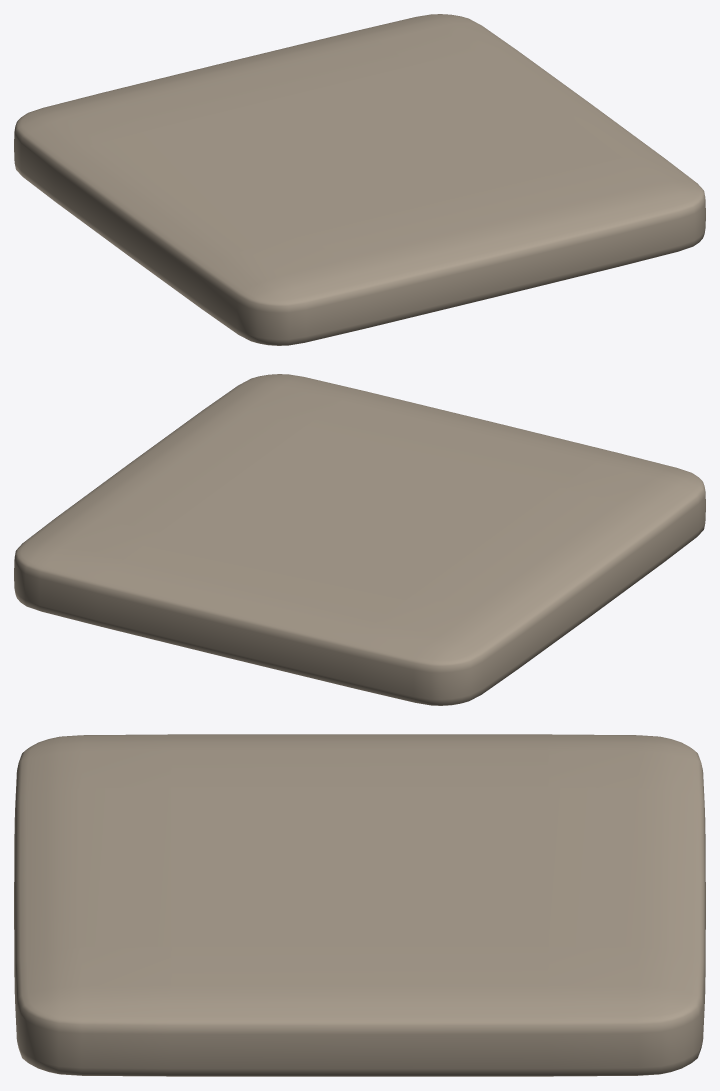
Rendered from CubeSoft.fbx.
3 views of the same model, one above another, from view 1: azimuth 30°, elevation 25°; view 2: azimuth 150°, elevation 25°; view 3: azimuth 270°, elevation 25° (orthographic). The views are drawn at different scales.
Visible parts, largest first — view 1: Cube_soft.001; view 2: Cube_soft.001; view 3: Cube_soft.001.
Boxes of the visible parts, bbox=[...] form: Cube_soft.001: bbox=[14, 14, 705, 345]; Cube_soft.001: bbox=[14, 374, 705, 705]; Cube_soft.001: bbox=[14, 734, 705, 1076].
Bounding box in the file's own units: 0.0798 × 0.00897 × 0.0798.
